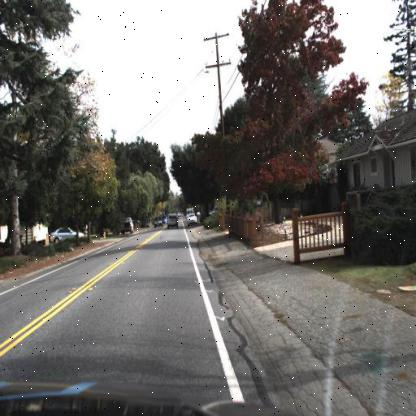car: (47, 224, 88, 242), (52, 224, 86, 245), (121, 214, 138, 236), (166, 211, 180, 231), (150, 213, 164, 229), (185, 214, 199, 227), (186, 211, 198, 226)
